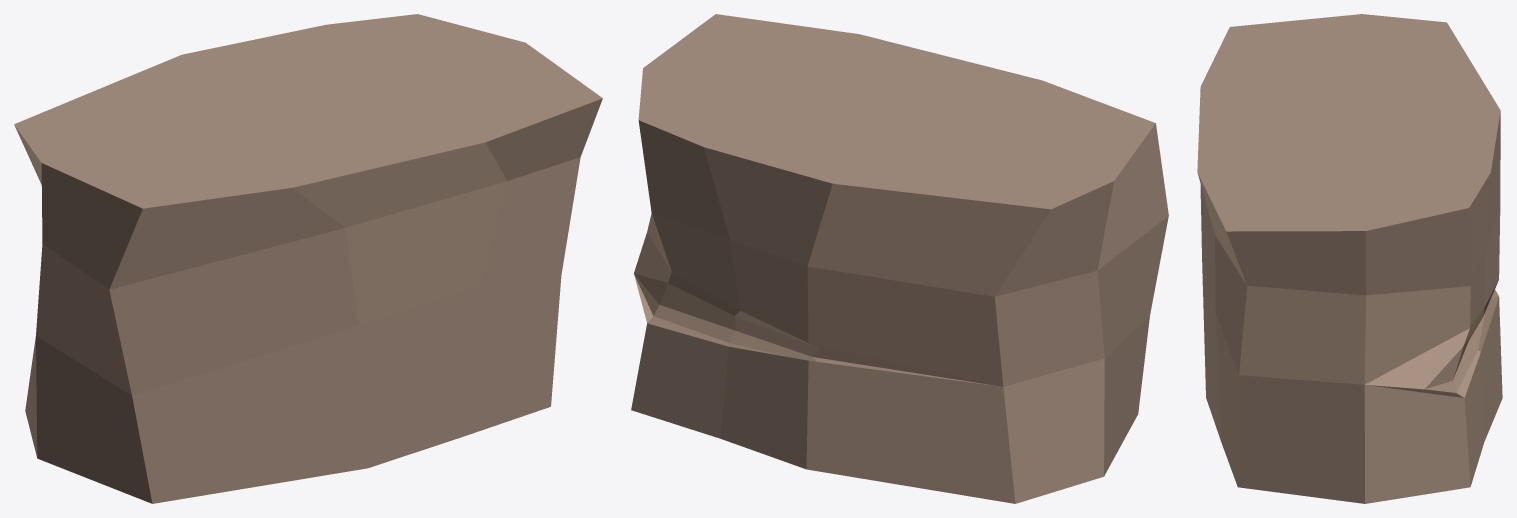
The model's file is Stackable_Rock_5_3_3_Colored_v02.fbx.
The picture shows the model from 3 angles, left to right: view 1: azimuth 30°, elevation 25°; view 2: azimuth 150°, elevation 25°; view 3: azimuth 270°, elevation 25°; orthographic projection. The views are drawn at different scales.
Visible parts, largest first — view 1: Stackable_Rock_5_3_3_v02; view 2: Stackable_Rock_5_3_3_v02; view 3: Stackable_Rock_5_3_3_v02.
Boxes of the visible parts, x1,y1,x2,y2 form: Stackable_Rock_5_3_3_v02: [14, 14, 602, 503]; Stackable_Rock_5_3_3_v02: [631, 14, 1168, 503]; Stackable_Rock_5_3_3_v02: [1197, 14, 1502, 503].
Size of the model in its own units: 503 by 298 by 298.
